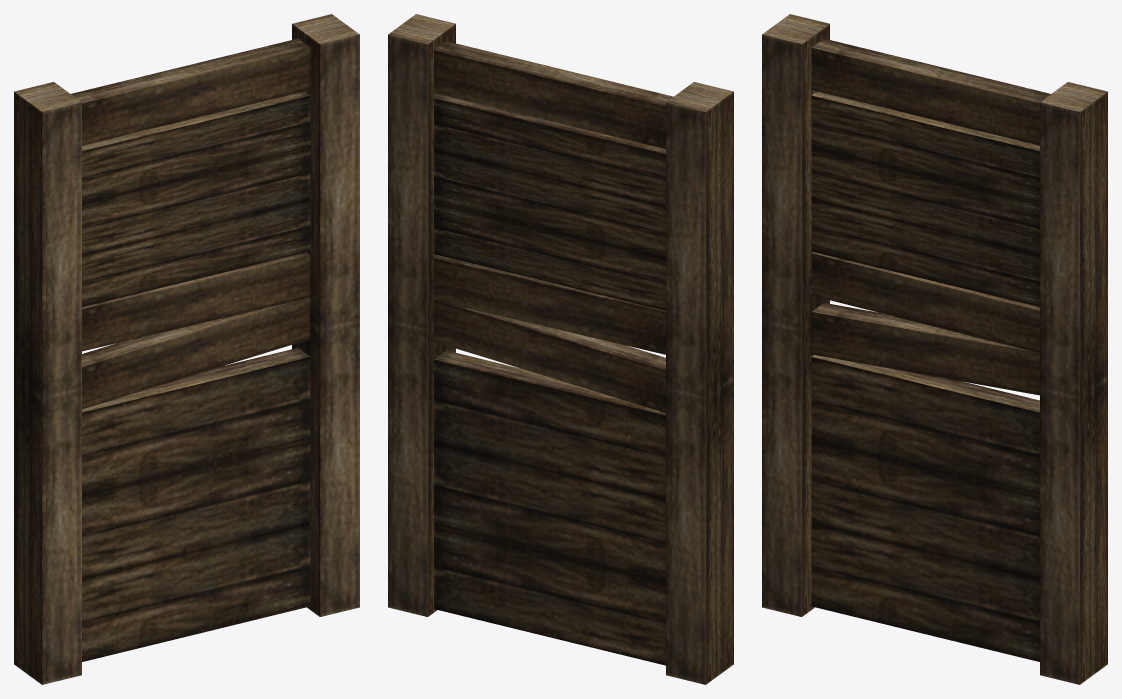
Rendered from general_obj_cliffgate_wall01.glb.
3 renders of one model, left to right at view 1: azimuth 30°, elevation 25°; view 2: azimuth 150°, elevation 25°; view 3: azimuth 330°, elevation 25°, orthographic.
Parts seen in each view (by area): view 1: Sphere01; view 2: Sphere01; view 3: Sphere01.
Part boxes in pixels (<box>): Sphere01: <box>14,14,359,684</box>; Sphere01: <box>388,14,733,684</box>; Sphere01: <box>762,14,1107,684</box>.
Size of the model in its own units: 4.71 by 8.11 by 0.7212.
Materials: 1 (1 with a texture image).
